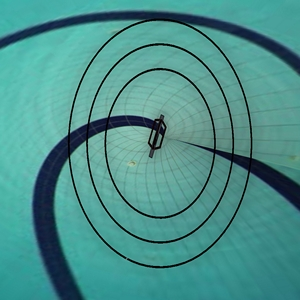circle: (44, 1, 280, 284)
submarine: (132, 105, 180, 162)
